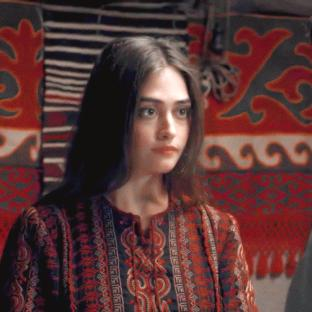Human: (0, 37, 257, 312)
